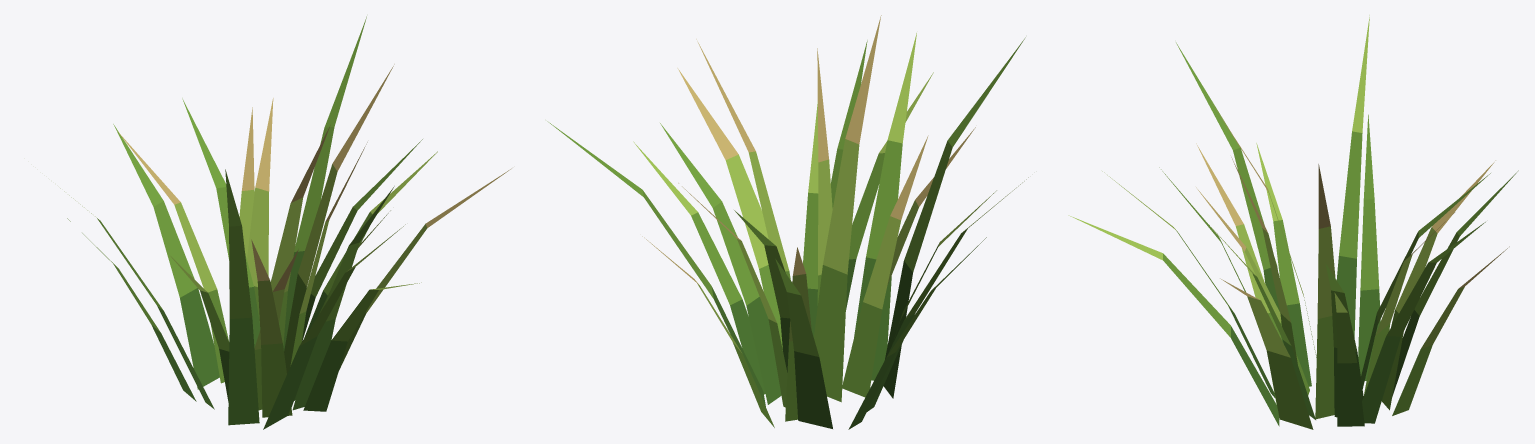
File: G01_TalahibClumpSmall.glb
3 renders of one model, left to right at view 1: azimuth 30°, elevation 25°; view 2: azimuth 150°, elevation 25°; view 3: azimuth 270°, elevation 25°, orthographic. The views are drawn at different scales.
Parts seen in each view (by area): view 1: G01_TalahibClumpSmall; view 2: G01_TalahibClumpSmall; view 3: G01_TalahibClumpSmall.
Part boxes in pixels (x1,y1,x2,y2): G01_TalahibClumpSmall: (60, 16, 511, 429); G01_TalahibClumpSmall: (547, 15, 1028, 429); G01_TalahibClumpSmall: (1068, 15, 1518, 429).
Bounding box in the file's own units: 1.73 × 1.26 × 1.63.
